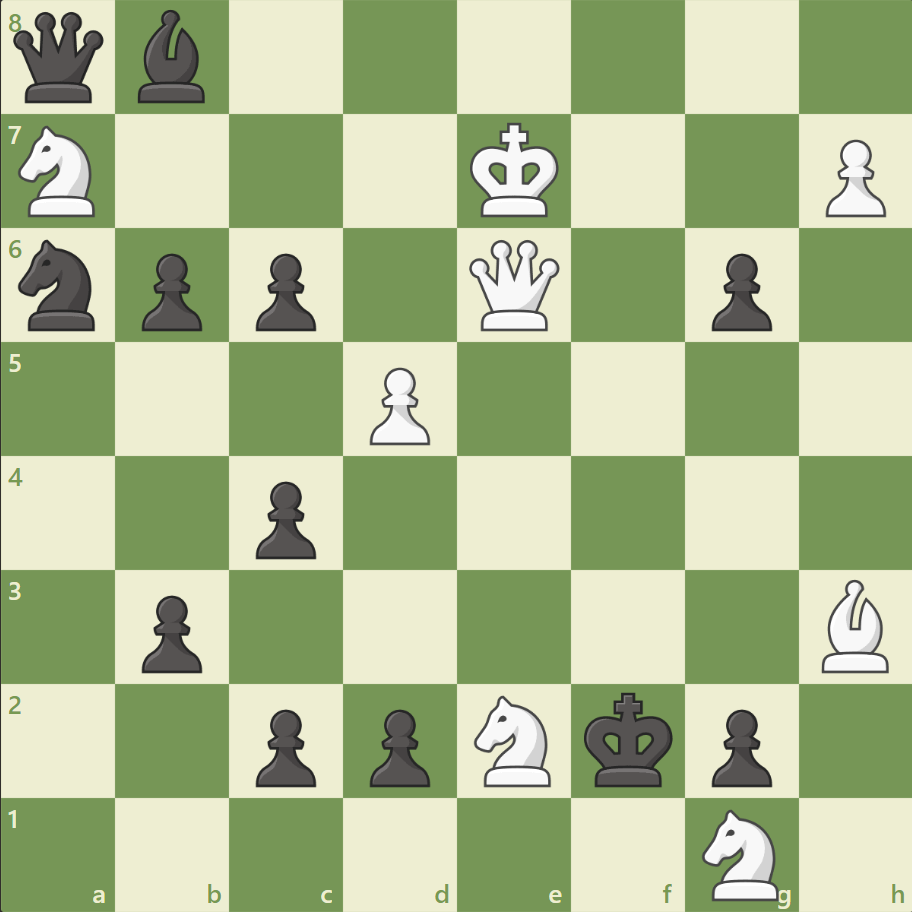B: (812, 574, 896, 676)
K: (465, 117, 565, 225)
N: (465, 688, 562, 791), (11, 121, 108, 223), (692, 802, 789, 904)
P: (815, 132, 889, 223), (361, 359, 435, 450)
Q: (464, 236, 563, 335)
b: (131, 6, 215, 109)
k: (579, 685, 679, 793)
n: (11, 234, 108, 337)
p: (133, 246, 208, 337), (247, 246, 322, 337), (701, 246, 776, 337), (247, 473, 322, 564), (133, 586, 208, 677), (247, 700, 322, 791), (701, 700, 776, 791), (361, 700, 435, 791)
q: (10, 9, 109, 108)
